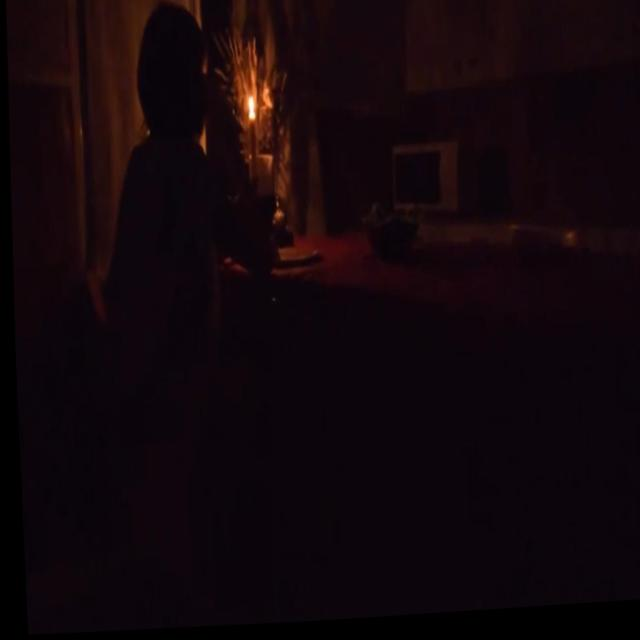fire: (245, 95, 255, 118)
